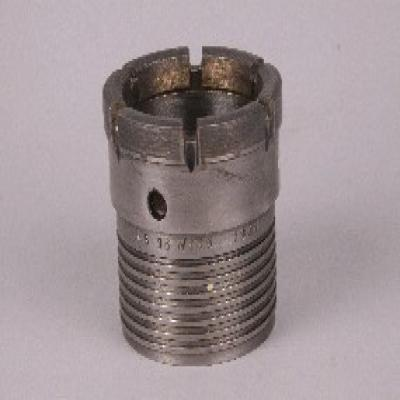technique: (101, 46, 282, 368)
